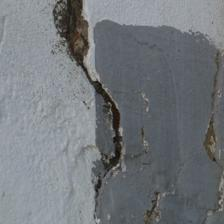Crack: (82, 68, 129, 212), (200, 49, 224, 169), (54, 1, 94, 66), (142, 187, 180, 221)
